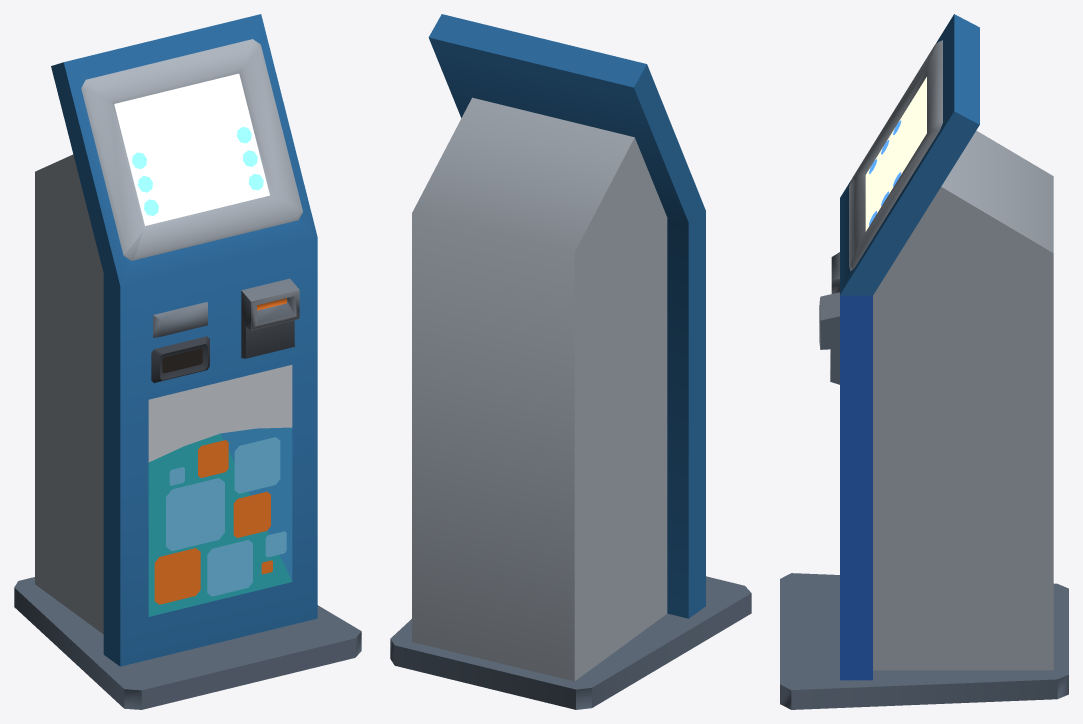
File: caixa_eletronico_totem_pacote.glb
The picture shows the model from 3 angles, left to right: view 1: azimuth 30°, elevation 25°; view 2: azimuth 150°, elevation 25°; view 3: azimuth 270°, elevation 25°; orthographic projection. The views are drawn at different scales.
Visible parts, largest first — view 1: caixa_eletronico_totem_pacote; view 2: caixa_eletronico_totem_pacote; view 3: caixa_eletronico_totem_pacote.
Boxes of the visible parts, x1,y1,x2,y2 form: caixa_eletronico_totem_pacote: (14,14,361,709); caixa_eletronico_totem_pacote: (390,14,751,709); caixa_eletronico_totem_pacote: (780,14,1068,709).
Bounding box in the file's own units: 0.6677 × 1.57 × 0.6962.
3 materials, 1 textured.
